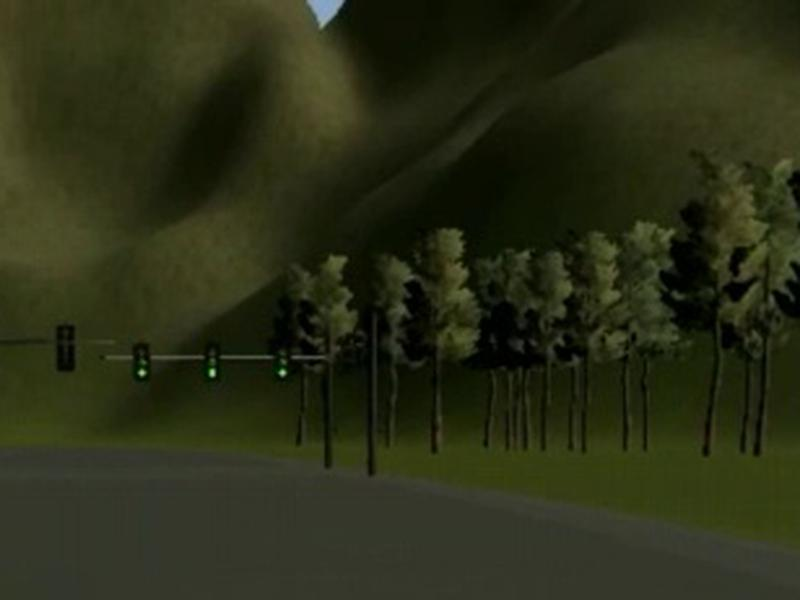Green: (274, 343, 291, 383), (134, 343, 151, 383), (205, 342, 219, 383)
